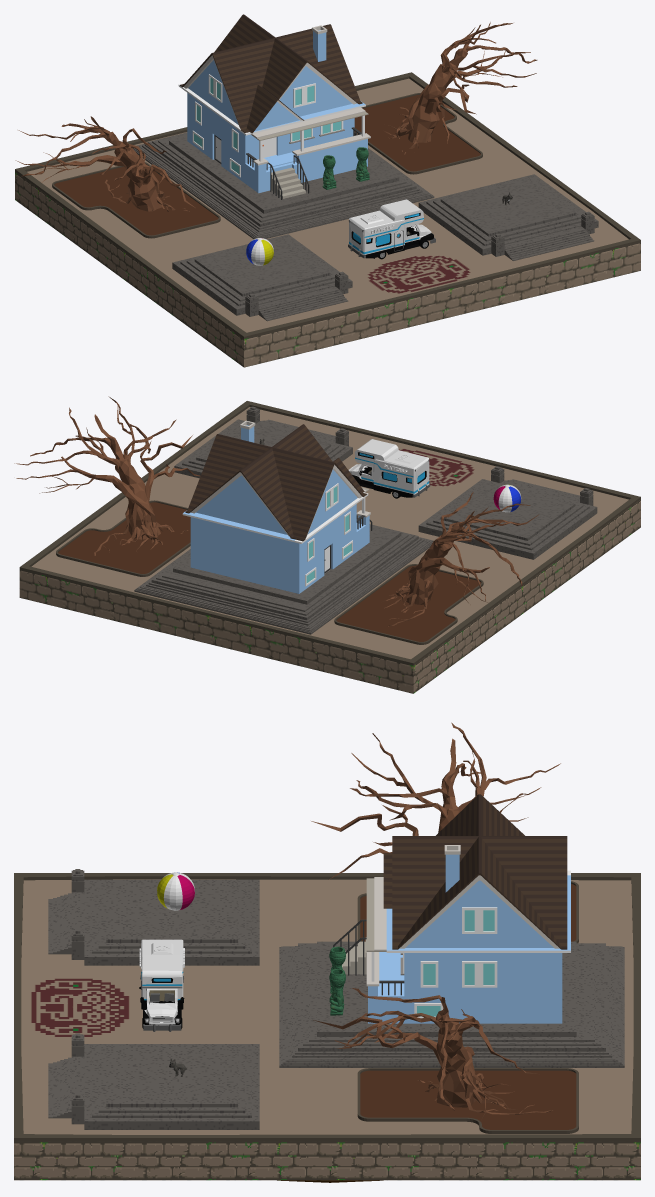
The picture shows the model from 3 angles, top to bottom: view 1: azimuth 30°, elevation 25°; view 2: azimuth 150°, elevation 25°; view 3: azimuth 270°, elevation 25°; orthographic projection. The views are drawn at different scales.
Parts seen in each view (by area): view 1: Cube.011, Cube.1594, VEHICLES_CAMPER, OBJRANDOM_BEACHBALL; view 2: Cube.011, Cube.1594, VEHICLES_CAMPER, OBJRANDOM_BEACHBALL; view 3: Cube.011, Cube.1594, VEHICLES_CAMPER, OBJRANDOM_BEACHBALL.
Part boxes in pixels (<box>): Cube.011: <box>15,22,640,367</box>; Cube.1594: <box>178,14,370,199</box>; VEHICLES_CAMPER: <box>348,199,435,259</box>; OBJRANDOM_BEACHBALL: <box>246,238,273,265</box>; Cube.011: <box>14,396,640,693</box>; Cube.1594: <box>182,420,372,593</box>; VEHICLES_CAMPER: <box>348,439,430,498</box>; OBJRANDOM_BEACHBALL: <box>493,484,521,512</box>; Cube.011: <box>14,722,640,1180</box>; Cube.1594: <box>333,794,570,1023</box>; VEHICLES_CAMPER: <box>139,939,184,1031</box>; OBJRANDOM_BEACHBALL: <box>157,872,194,910</box>.
Size of the model in its own units: 5099 by 1726 by 4000.
39 materials, 5 textured.
